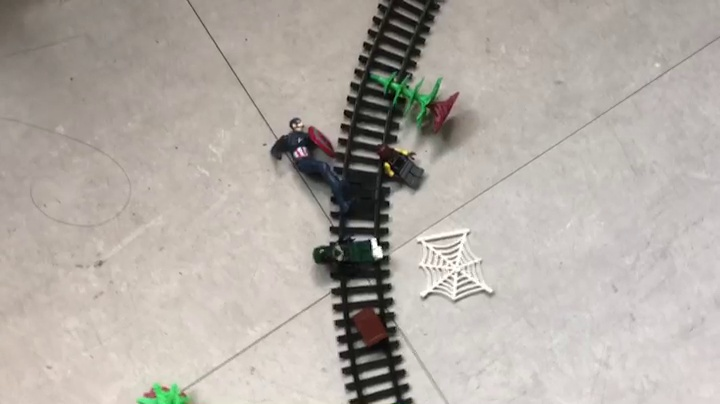box: (354, 305, 389, 349)
people: (271, 116, 356, 213), (375, 142, 426, 192), (311, 235, 385, 269)
tree: (376, 69, 460, 138)
web: (415, 230, 495, 300)
